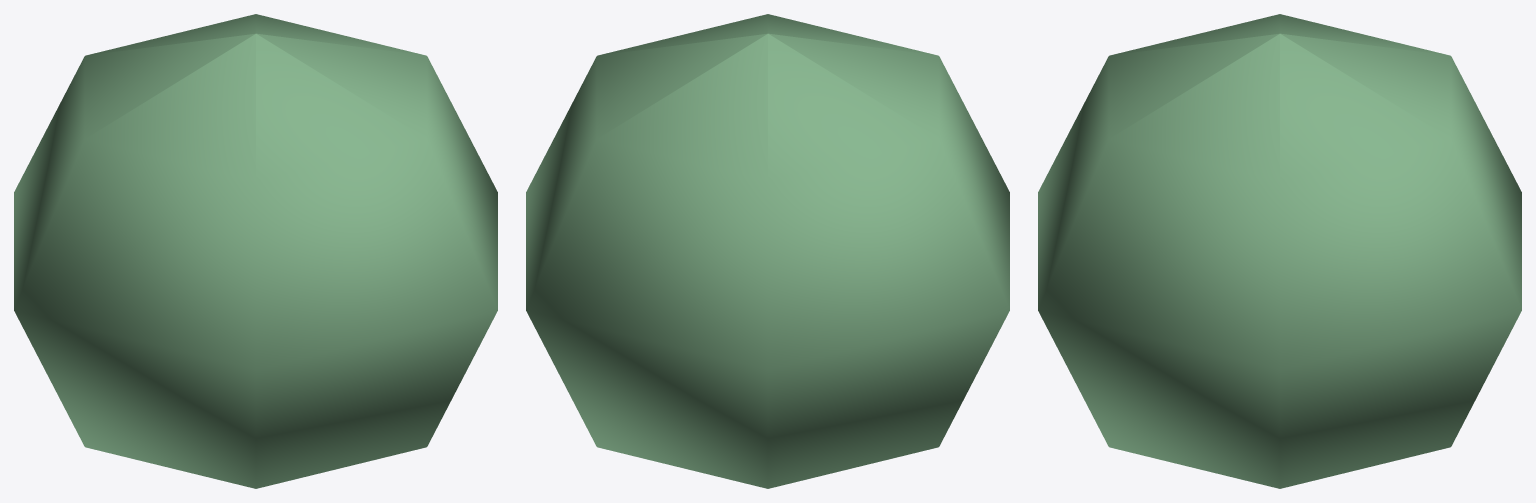
The model's file is fruit-blueberry-unripe-far.glb.
3 views of the same model, side by side, from view 1: azimuth 30°, elevation 25°; view 2: azimuth 150°, elevation 25°; view 3: azimuth 270°, elevation 25° (orthographic).
Visible parts, largest first — view 1: fruit-blueberry-unripe-far; view 2: fruit-blueberry-unripe-far; view 3: fruit-blueberry-unripe-far.
Boxes of the visible parts, left/top/right/bottom form: fruit-blueberry-unripe-far: left=14, top=14, right=497, bottom=488; fruit-blueberry-unripe-far: left=526, top=14, right=1009, bottom=488; fruit-blueberry-unripe-far: left=1038, top=14, right=1521, bottom=488.
Bounding box in the file's own units: 0.24 × 0.2064 × 0.2078.
